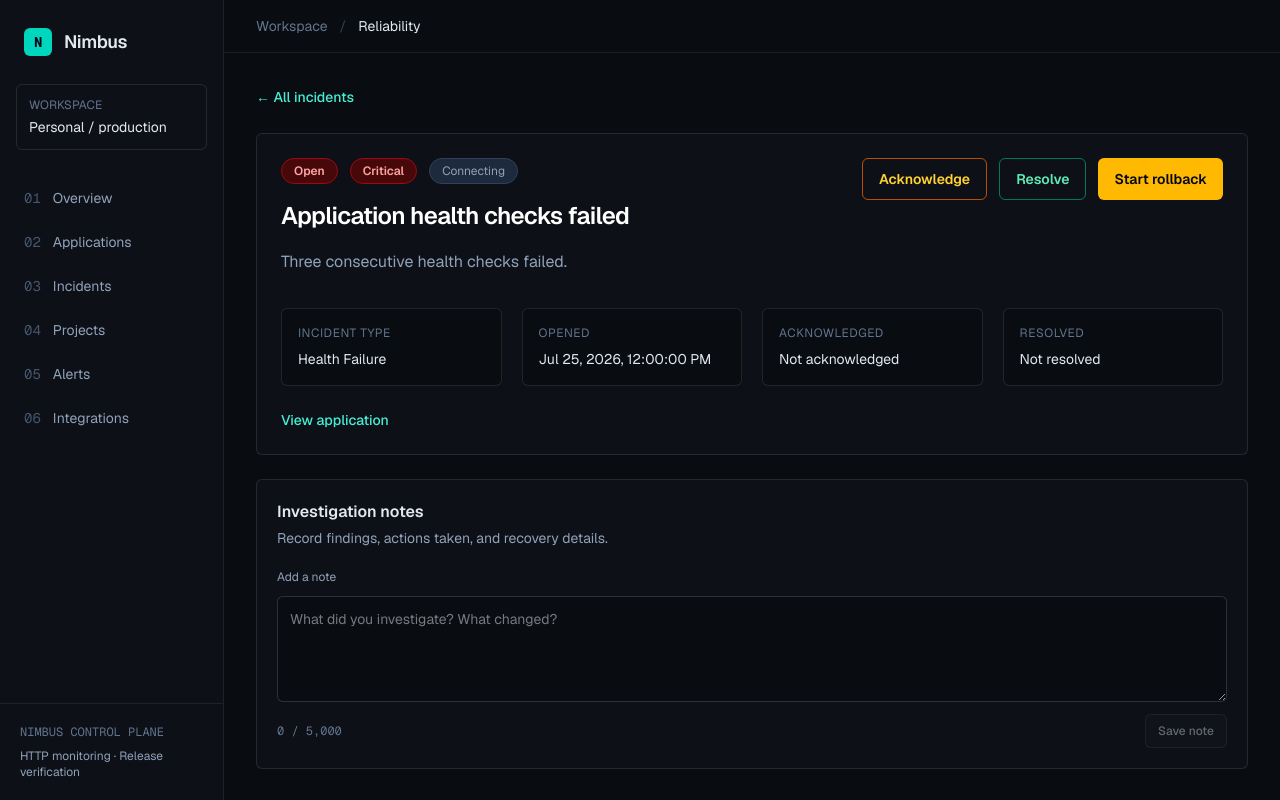
Scenario: IncidentDetailPage › acknowledges an incident
Click the button "Acknowledge".
click(924, 179)  # box left=862, top=158, right=987, bottom=200
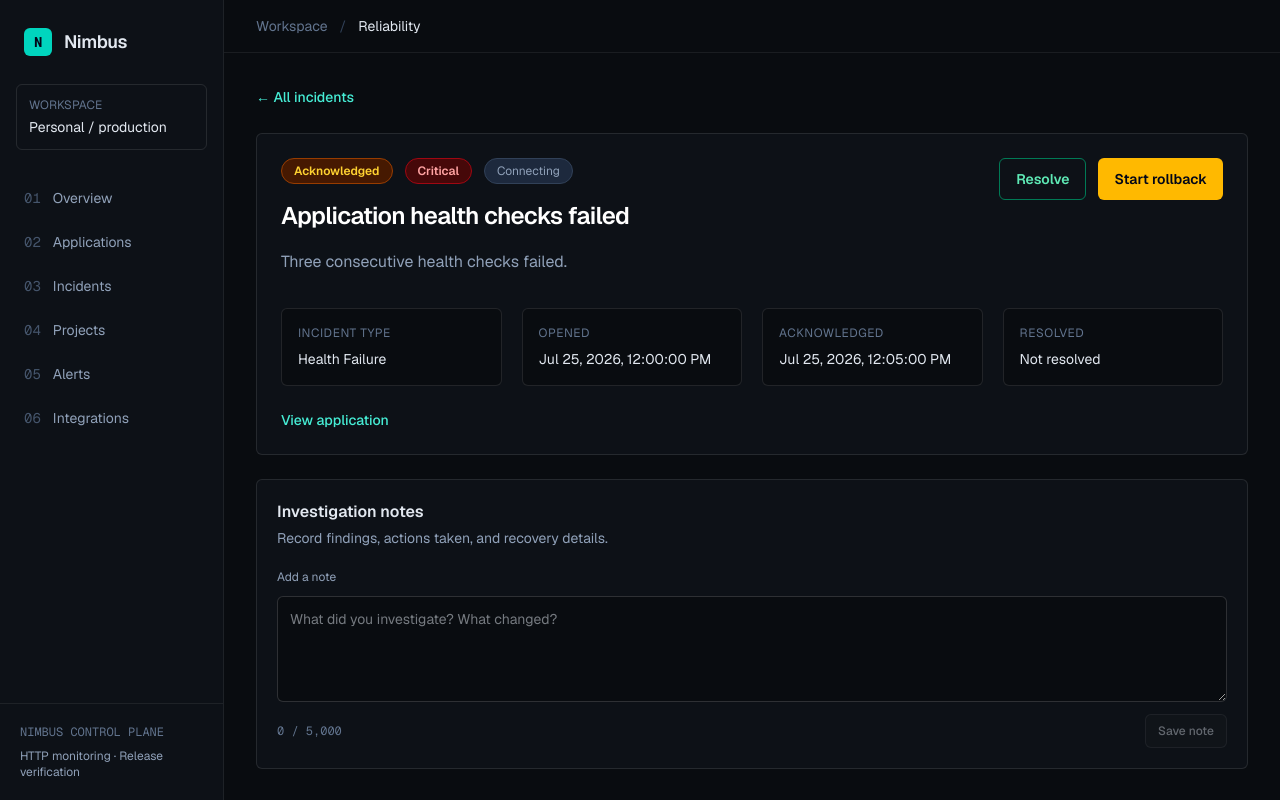
Result: the text "acknowledged" is shown at left=281, top=158, right=392, bottom=184
